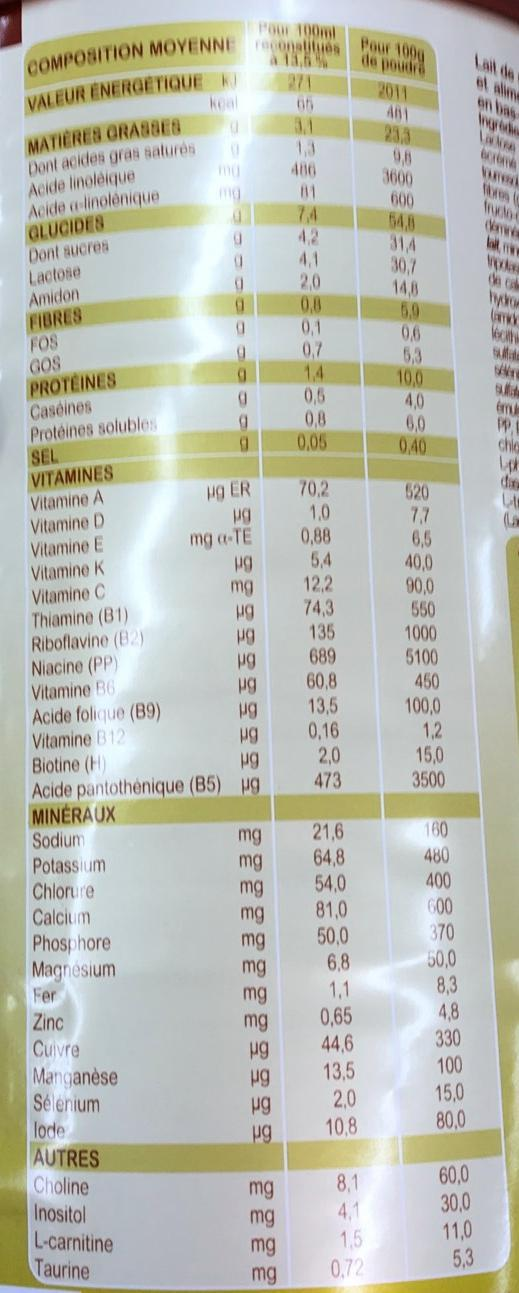column: (18, 35, 255, 1286), (359, 15, 454, 1276), (262, 20, 346, 1283)
table: (23, 24, 515, 1288)
